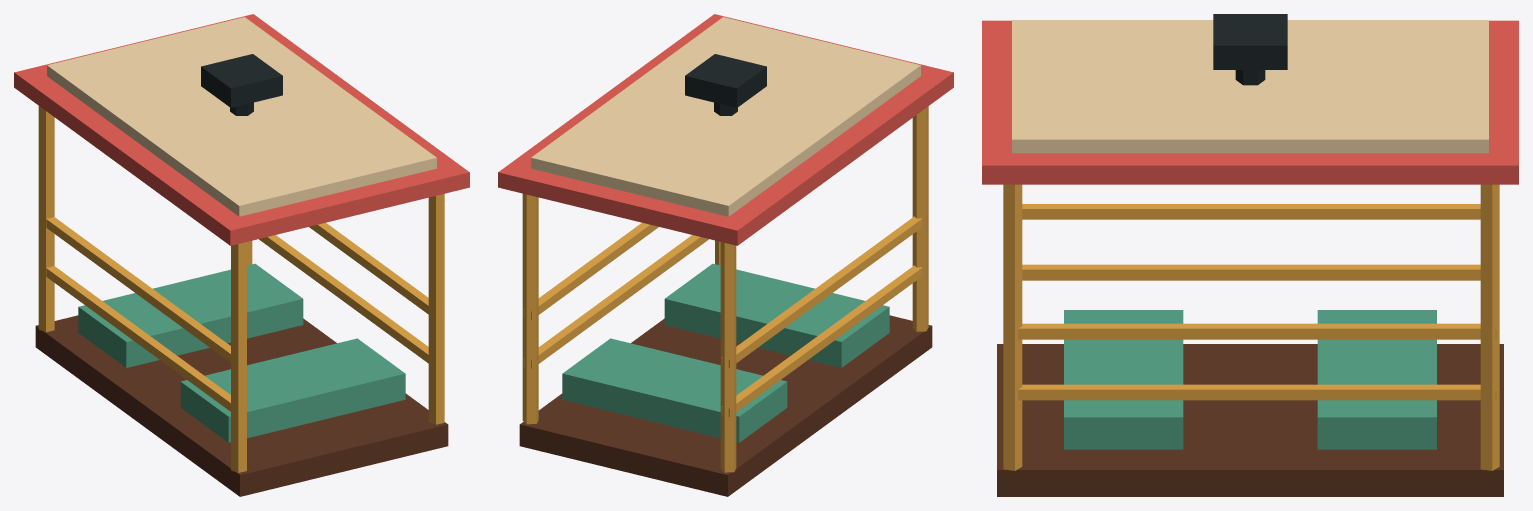
The model's file is ParkParkSkyCarV2.obj.
The picture shows the model from 3 angles, left to right: view 1: azimuth 30°, elevation 25°; view 2: azimuth 150°, elevation 25°; view 3: azimuth 270°, elevation 25°; orthographic projection. The views are drawn at different scales.
Parts seen in each view (by area): view 1: ParkParkSkyCarV2; view 2: ParkParkSkyCarV2; view 3: ParkParkSkyCarV2.
Boxes of the visible parts, box(x1,y1,x2,y2) form: ParkParkSkyCarV2: box(14, 14, 469, 496); ParkParkSkyCarV2: box(498, 14, 953, 496); ParkParkSkyCarV2: box(982, 14, 1518, 496).
Size of the model in its own units: 2.3 by 2.99 by 3.6.
